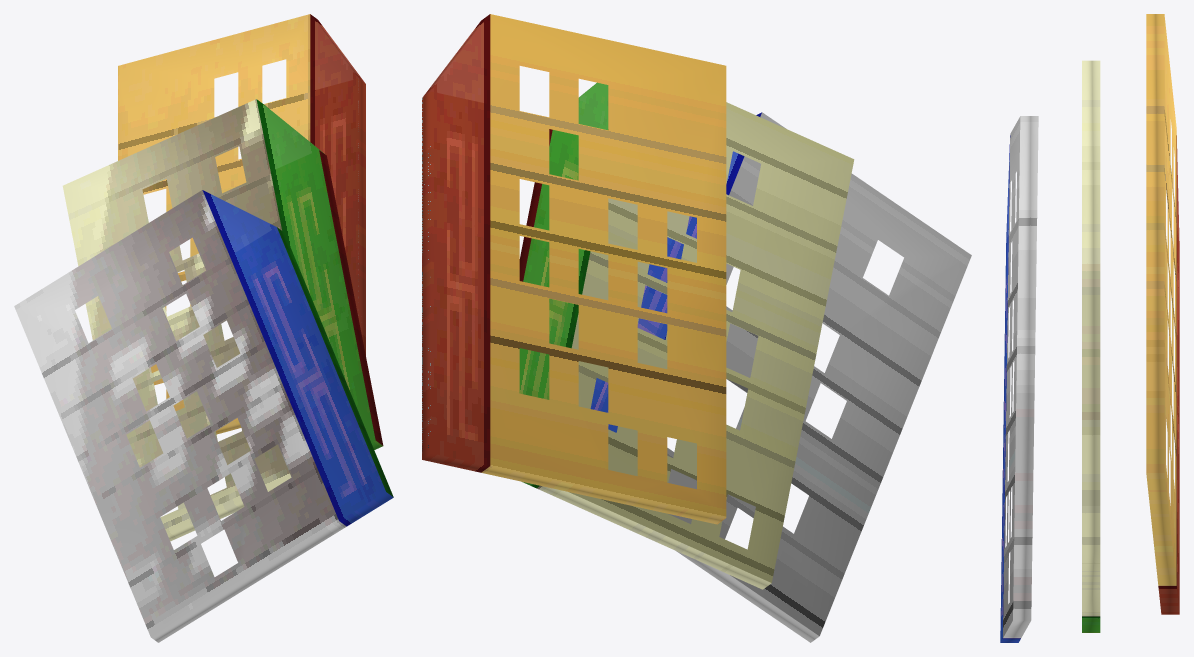
File: ps2_save-icons_networkregistrationdata.glb
3 views of the same model, side by side, from view 1: azimuth 30°, elevation 25°; view 2: azimuth 150°, elevation 25°; view 3: azimuth 270°, elevation 25° (orthographic). The views are drawn at different scales.
Parts seen in each view (by area): view 1: SOS.ICO; view 2: SOS.ICO; view 3: SOS.ICO.
Part boxes in pixels (left/top/right/bottom): SOS.ICO: left=14, top=14, right=393, bottom=642; SOS.ICO: left=422, top=14, right=971, bottom=642; SOS.ICO: left=1000, top=14, right=1179, bottom=642.
Size of the model in its own units: 3.77 by 4.68 by 1.23.
Materials: 1 (1 with a texture image).
